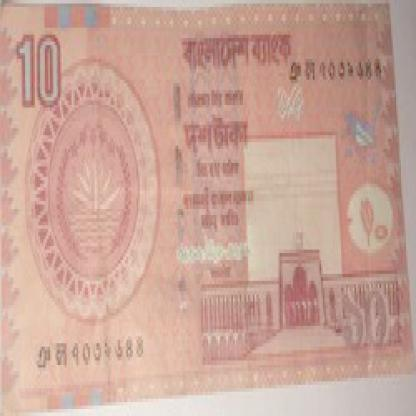Ten Taka: (336, 270, 396, 361), (17, 24, 65, 118)
